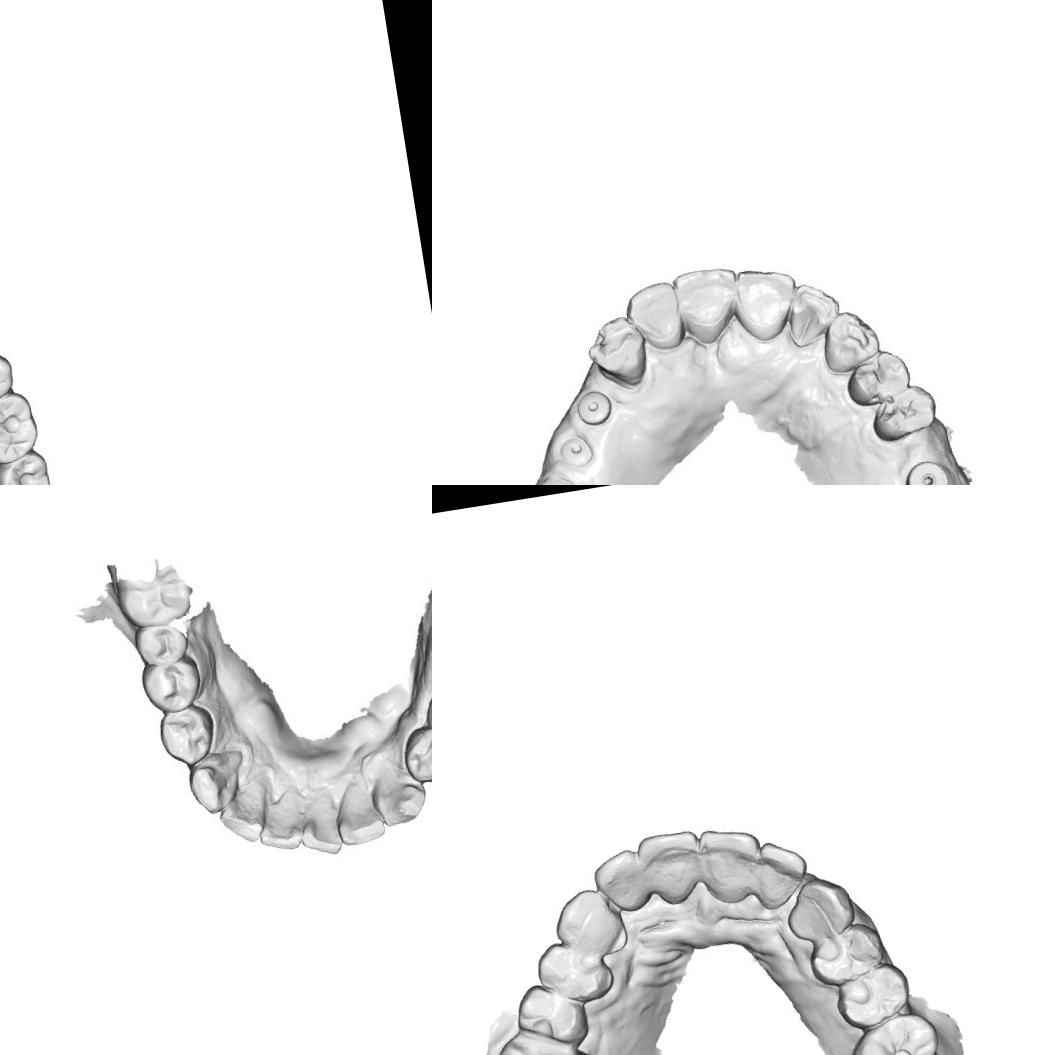canine: (548, 882, 628, 964), (779, 872, 860, 946), (583, 310, 652, 390), (182, 748, 250, 820), (814, 308, 882, 376), (367, 760, 431, 830)
implant: (568, 384, 616, 432), (897, 451, 952, 485), (554, 432, 592, 470), (534, 472, 581, 485)
incisor: (692, 821, 771, 910), (634, 824, 710, 912), (671, 262, 747, 345), (726, 264, 801, 345), (746, 835, 814, 914), (622, 276, 690, 354), (588, 846, 652, 919), (217, 781, 277, 844), (331, 782, 390, 844), (784, 283, 842, 346), (301, 788, 347, 856), (257, 792, 307, 846)
molar: (840, 1009, 949, 1055), (486, 1021, 607, 1055), (0, 386, 43, 468), (0, 446, 56, 485)
premolar: (510, 975, 594, 1053), (828, 960, 916, 1033), (530, 934, 614, 1010), (803, 917, 888, 992), (844, 349, 910, 410), (143, 656, 204, 715), (871, 386, 936, 440), (159, 704, 218, 762), (136, 614, 196, 668), (400, 726, 432, 786), (0, 346, 20, 416)
